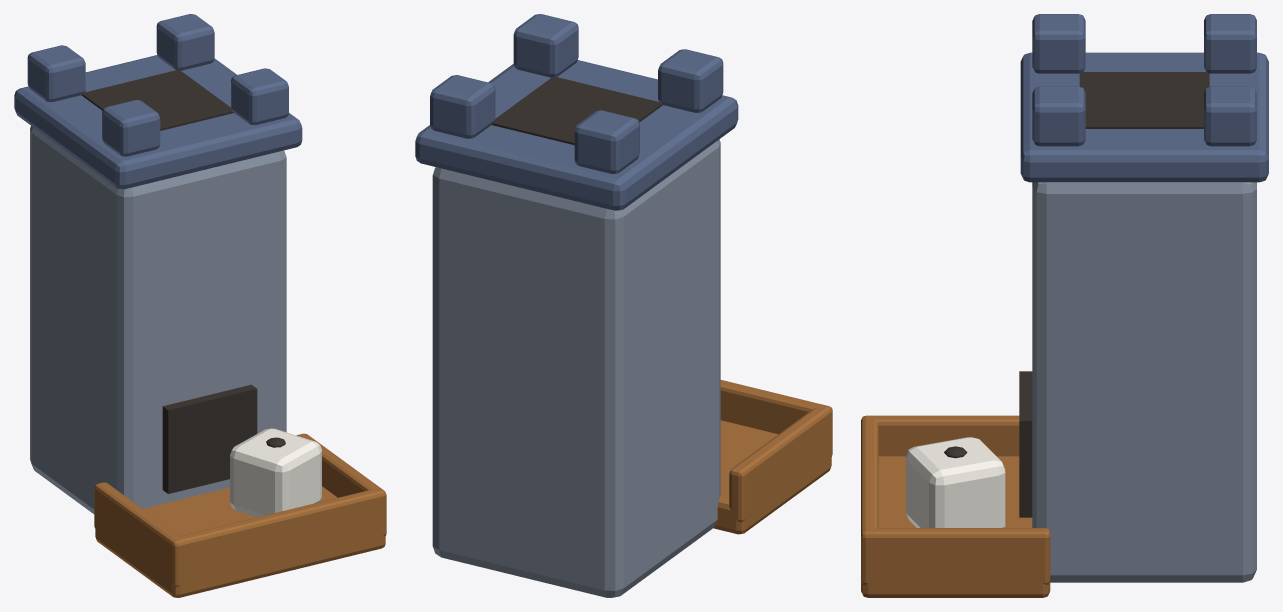
File: dice_tower.glb
The picture shows the model from 3 angles, left to right: view 1: azimuth 30°, elevation 25°; view 2: azimuth 150°, elevation 25°; view 3: azimuth 270°, elevation 25°; orthographic projection. The views are drawn at different scales.
Visible parts, largest first — view 1: dice_tower_stone, dice_tower_darkstone, dice_tower_wood, dice_tower_hole, dice_tower_white; view 2: dice_tower_stone, dice_tower_darkstone, dice_tower_wood, dice_tower_hole; view 3: dice_tower_stone, dice_tower_darkstone, dice_tower_wood, dice_tower_hole, dice_tower_white.
Boxes of the visible parts, bbox=[...] form: dice_tower_stone: bbox=[30, 126, 286, 513]; dice_tower_darkstone: bbox=[14, 14, 302, 189]; dice_tower_wood: bbox=[94, 433, 386, 597]; dice_tower_hole: bbox=[81, 70, 285, 493]; dice_tower_white: bbox=[230, 428, 321, 517]; dice_tower_stone: bbox=[432, 139, 720, 597]; dice_tower_darkstone: bbox=[415, 14, 738, 210]; dice_tower_wood: bbox=[713, 380, 832, 534]; dice_tower_hole: bbox=[492, 77, 662, 145]; dice_tower_stone: bbox=[1032, 182, 1256, 582]; dice_tower_darkstone: bbox=[1020, 14, 1268, 182]; dice_tower_wood: bbox=[861, 415, 1050, 597]; dice_tower_hole: bbox=[944, 72, 1209, 517]; dice_tower_white: bbox=[906, 437, 1005, 527].
Bounding box in the file's own units: 0.24 × 0.45 × 0.345.
